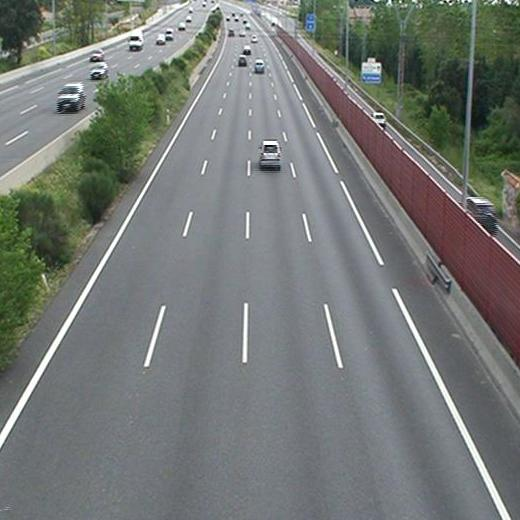car: (260, 140, 282, 166), (254, 59, 265, 72), (238, 56, 247, 66), (242, 46, 250, 54)
